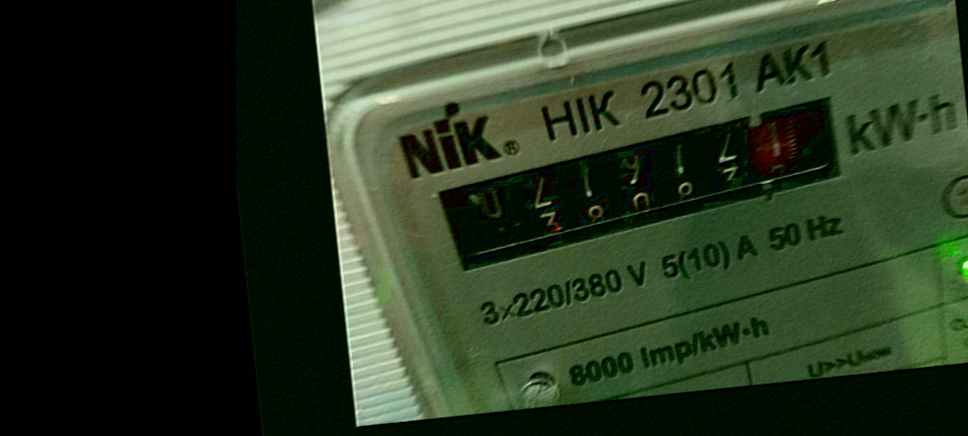0: (478, 184, 509, 223)
1: (765, 118, 792, 163)
2: (525, 170, 558, 212), (712, 127, 744, 166)
7: (666, 137, 696, 180), (575, 163, 602, 202)
9: (621, 150, 650, 188)
screen: (418, 85, 883, 285)
